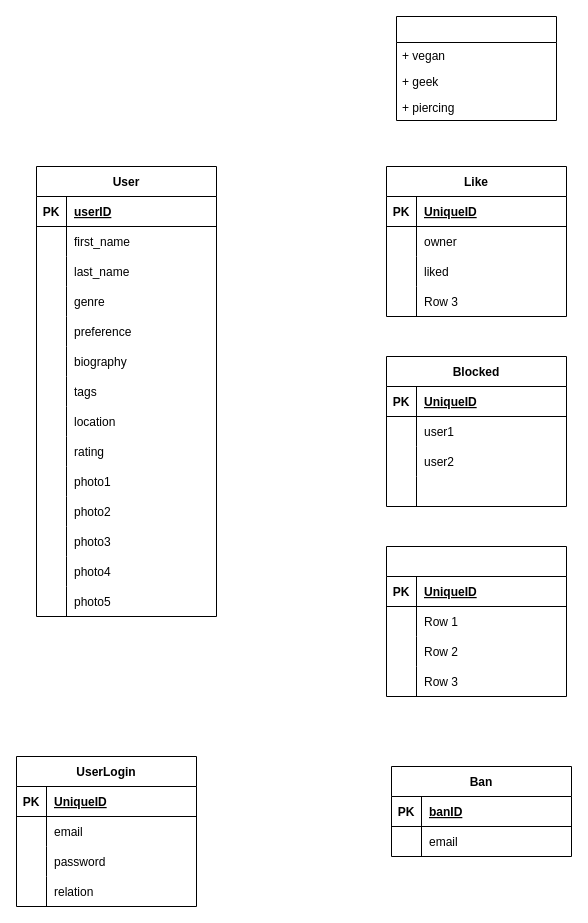
Some shapes in this 588 by 923 pixel diagram are drawn without their labels. The shapes that lost their labels are listed below. From the top down, each one's box as (x1, y1, x2, y2) in pixels, then its label:
(396, 16, 556, 120): Tag
(386, 546, 566, 696): View
